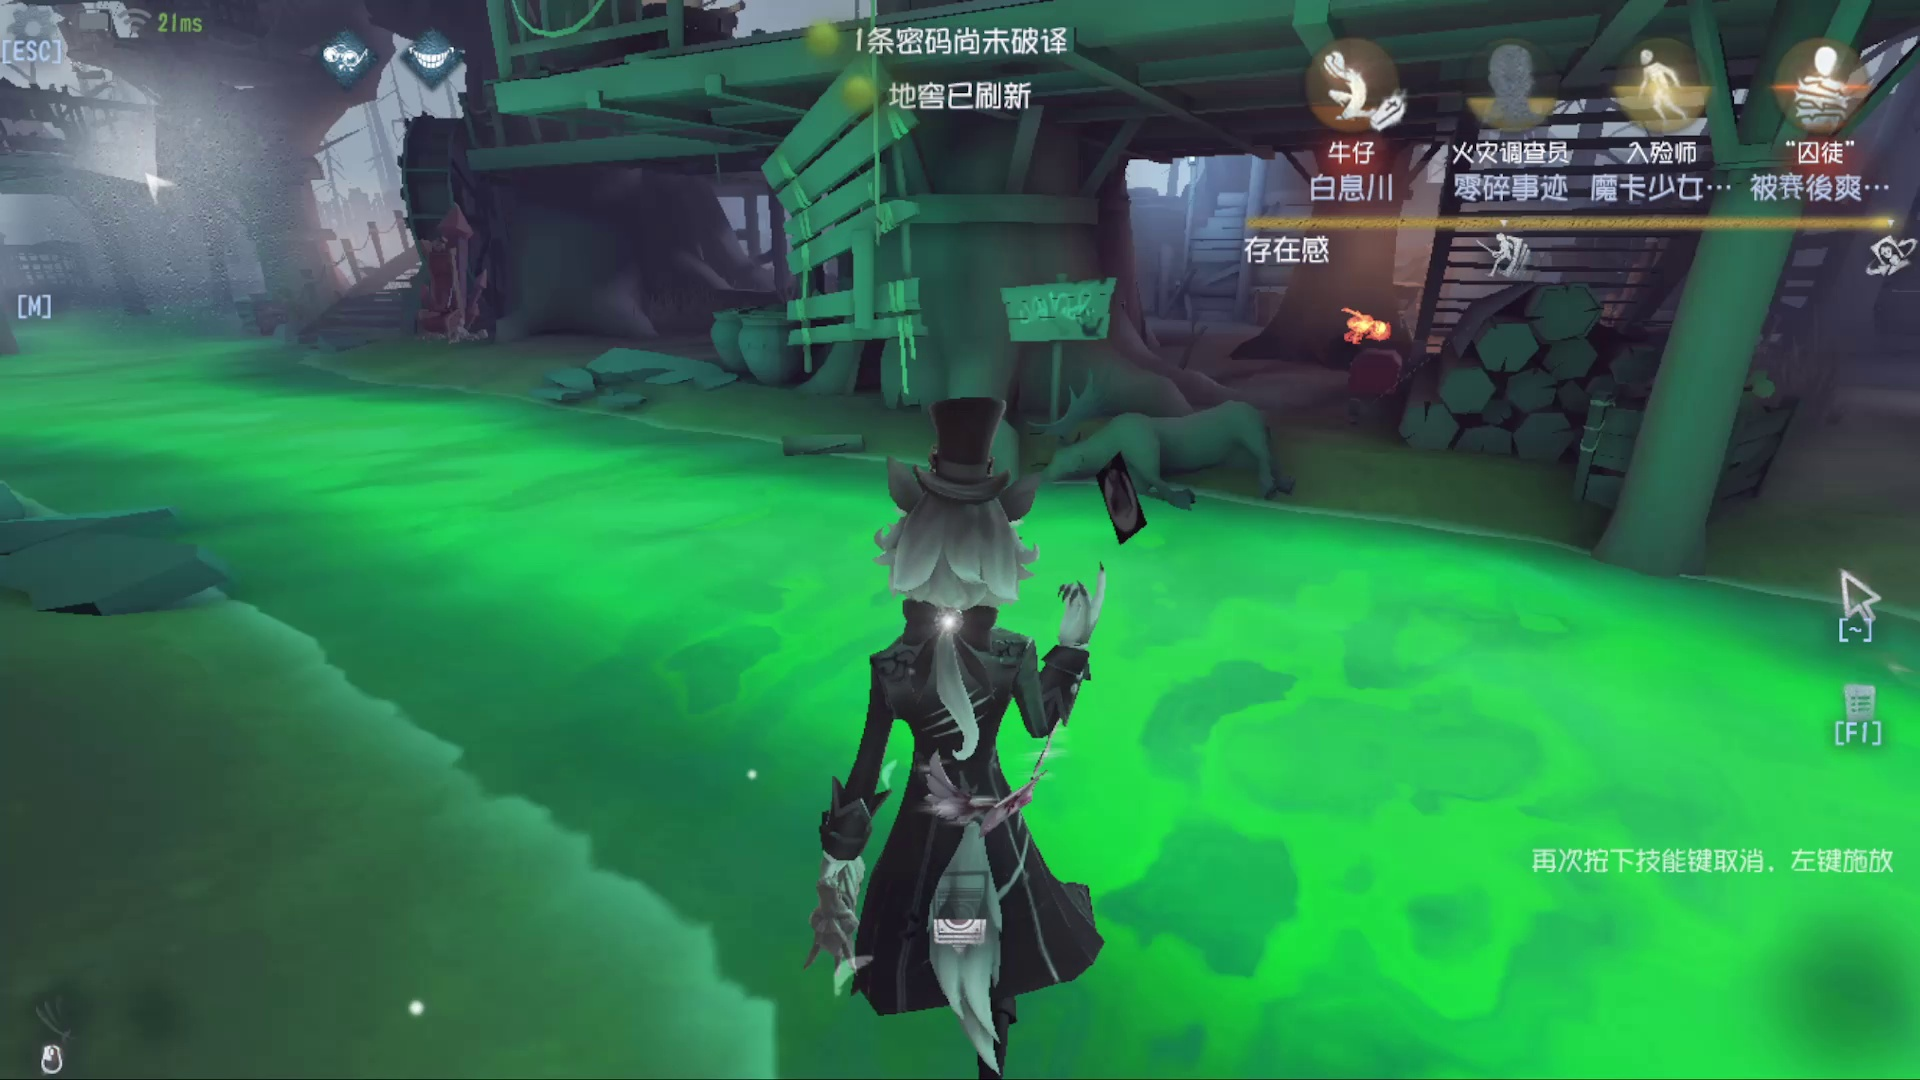求生者: (1313, 285, 1429, 357)
